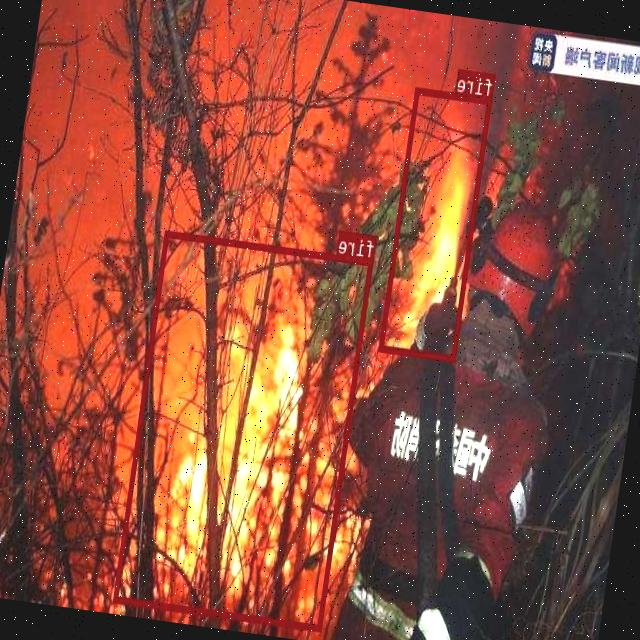fire: (115, 229, 374, 630), (380, 88, 493, 362)
